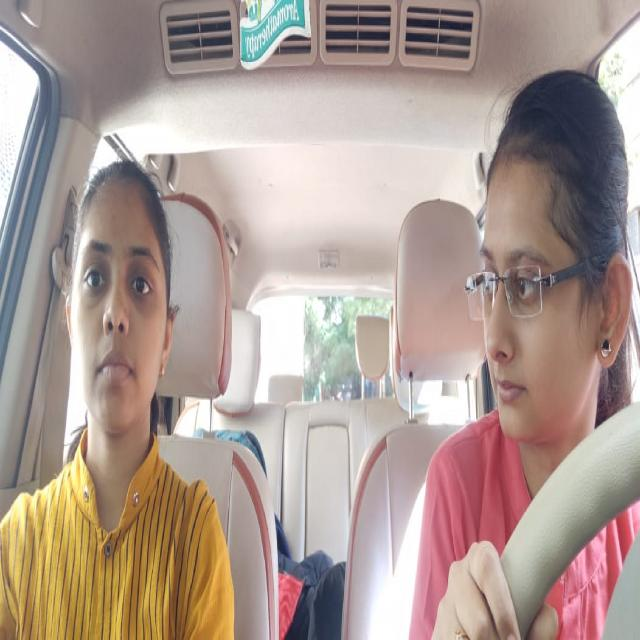LeftRight: (458, 45, 640, 510)
person: (55, 119, 186, 491)
